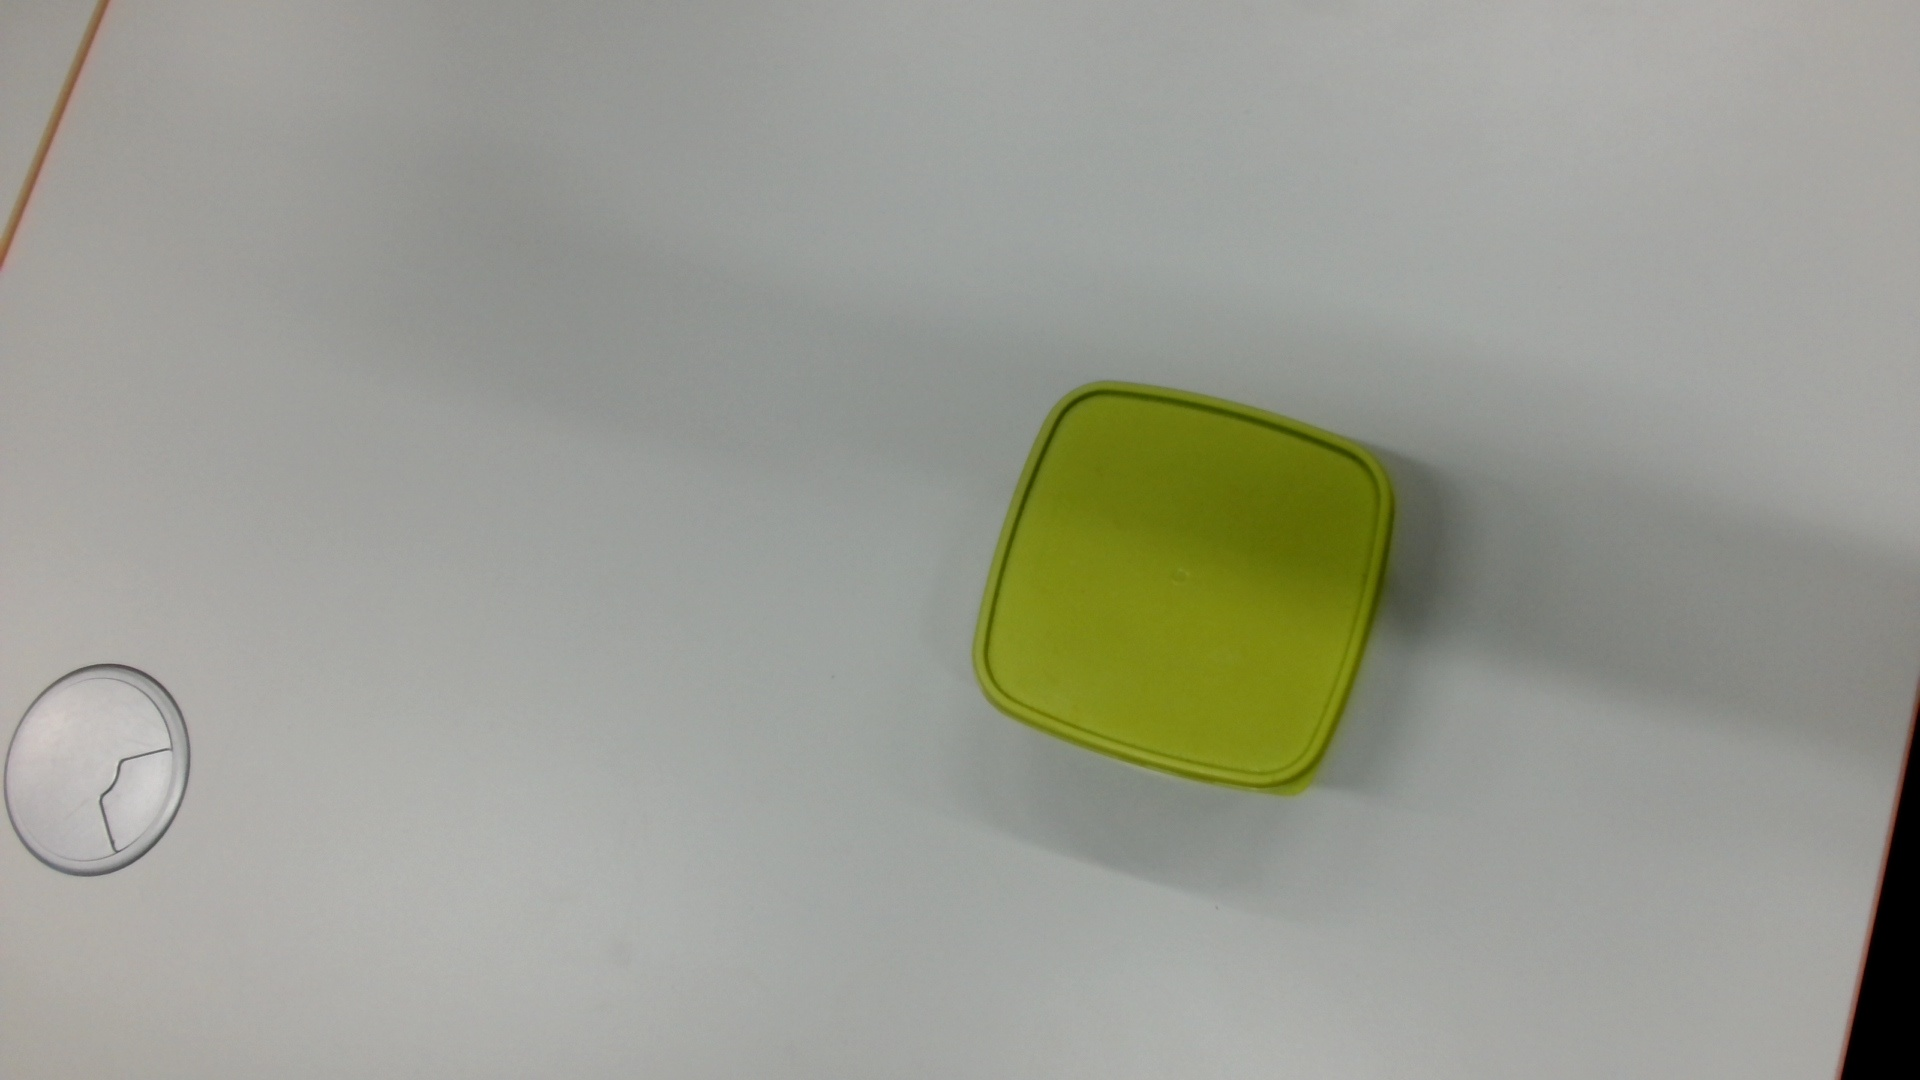Box: (965, 375, 1400, 807)
